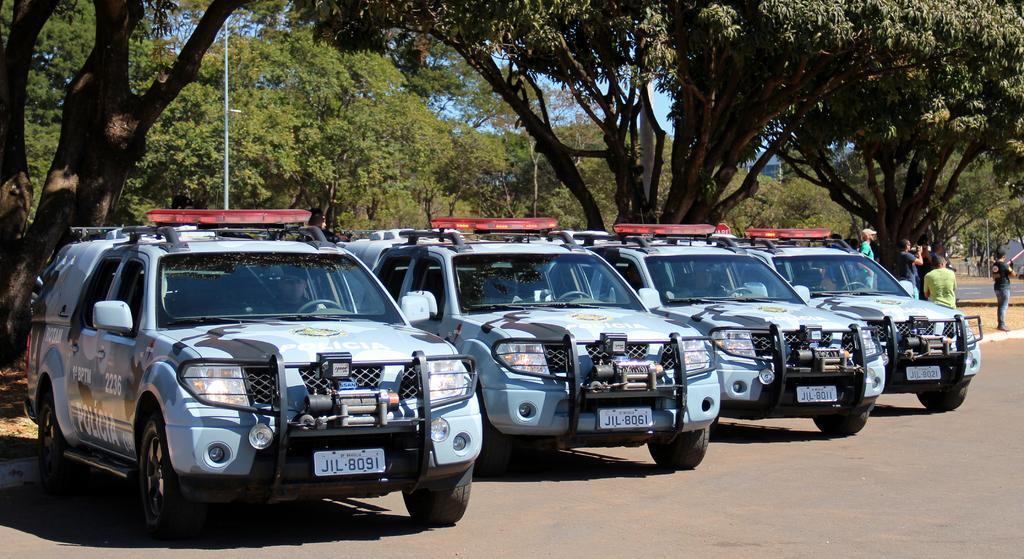Car: (19, 182, 479, 550), (364, 165, 717, 519), (537, 145, 887, 495), (763, 191, 1003, 442)
Number plate: (310, 436, 402, 491), (590, 400, 668, 439), (903, 358, 960, 398), (793, 380, 845, 414)
